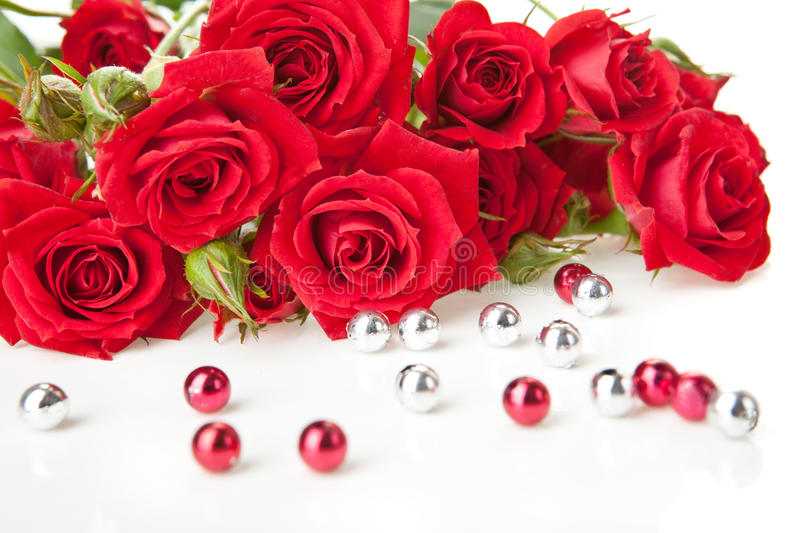RedRose: (0, 163, 199, 366), (265, 133, 493, 304), (194, 4, 406, 138), (128, 75, 303, 235), (613, 107, 765, 286), (546, 18, 687, 138), (428, 4, 555, 136), (58, 8, 155, 75)
